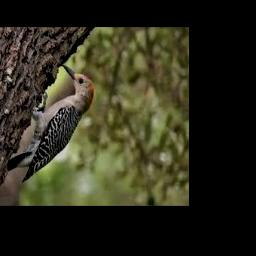Woodpecker: (7, 63, 94, 183)
